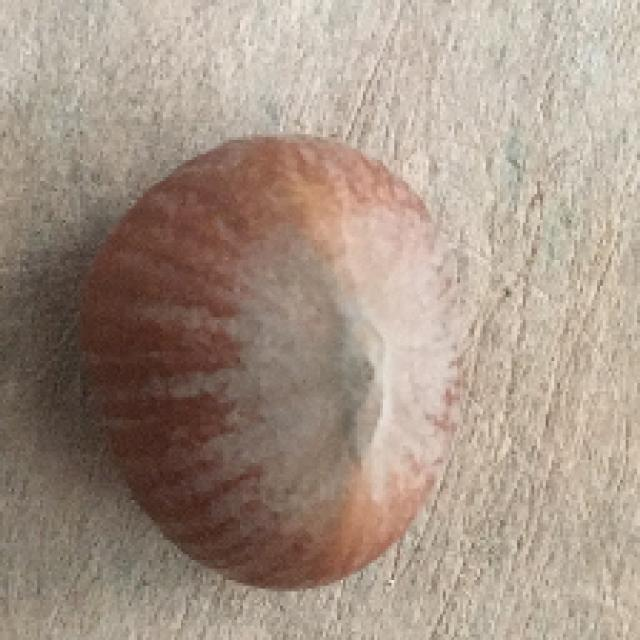qualityHazelnut: (70, 115, 467, 598)
